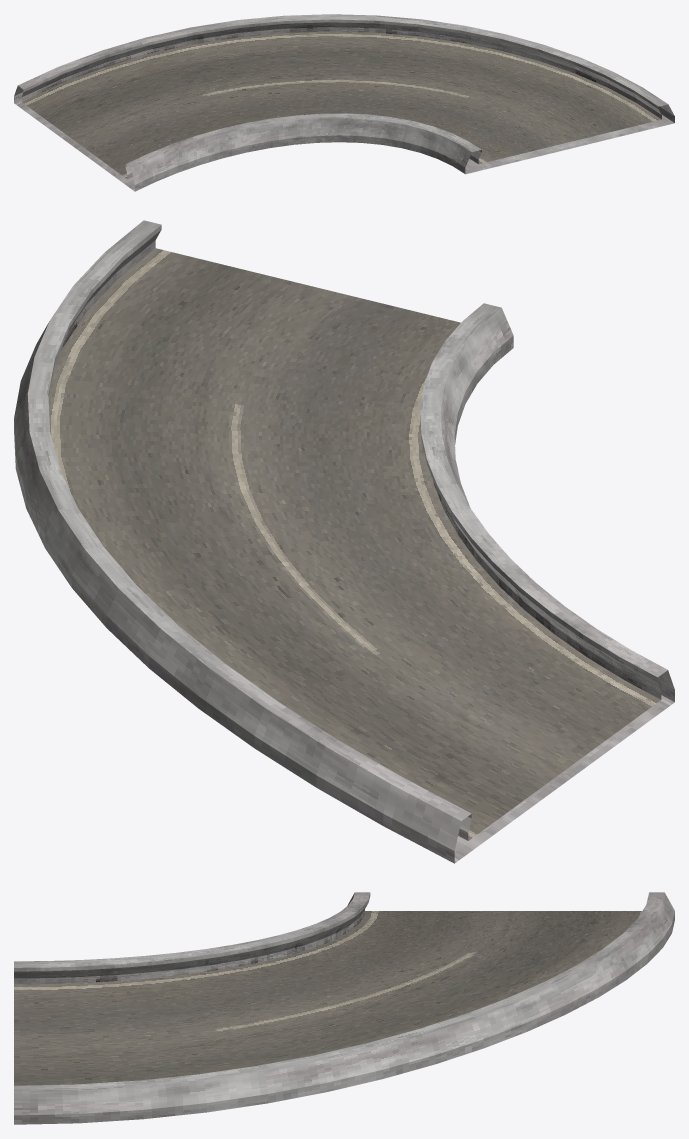
File: turn-left2x2.glb
3 renders of one model, top to bottom at view 1: azimuth 30°, elevation 25°; view 2: azimuth 150°, elevation 25°; view 3: azimuth 270°, elevation 25°, orthographic. The views are drawn at different scales.
Visible parts, largest first — view 1: road-Turn-Flat-BiSlopeDown-Down1-Left-Size2; view 2: road-Turn-Flat-BiSlopeDown-Down1-Left-Size2; view 3: road-Turn-Flat-BiSlopeDown-Down1-Left-Size2.
Part boxes in pixels (left/top/right/bottom): road-Turn-Flat-BiSlopeDown-Down1-Left-Size2: left=14, top=14, right=674, bottom=191; road-Turn-Flat-BiSlopeDown-Down1-Left-Size2: left=14, top=220, right=674, bottom=863; road-Turn-Flat-BiSlopeDown-Down1-Left-Size2: left=14, top=892, right=674, bottom=1124.
Size of the model in its own units: 2 by 0.3441 by 2.
2 materials, 2 textured.
